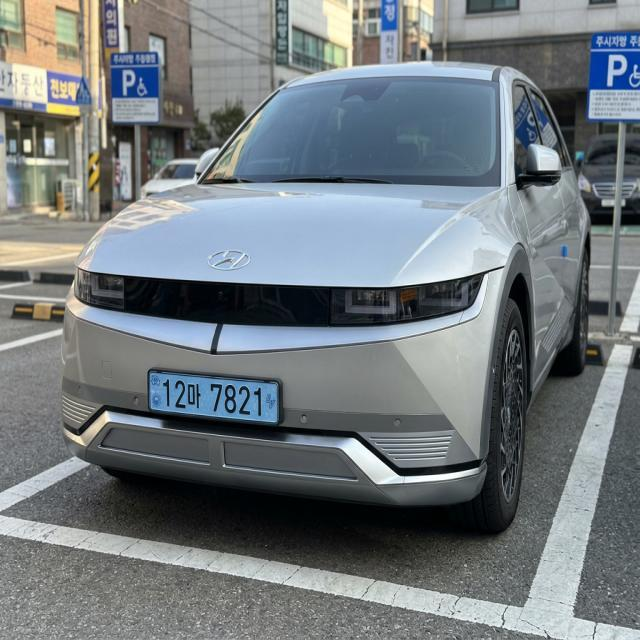car: (129, 360, 316, 438)
carev: (262, 363, 281, 436), (148, 364, 163, 423)
